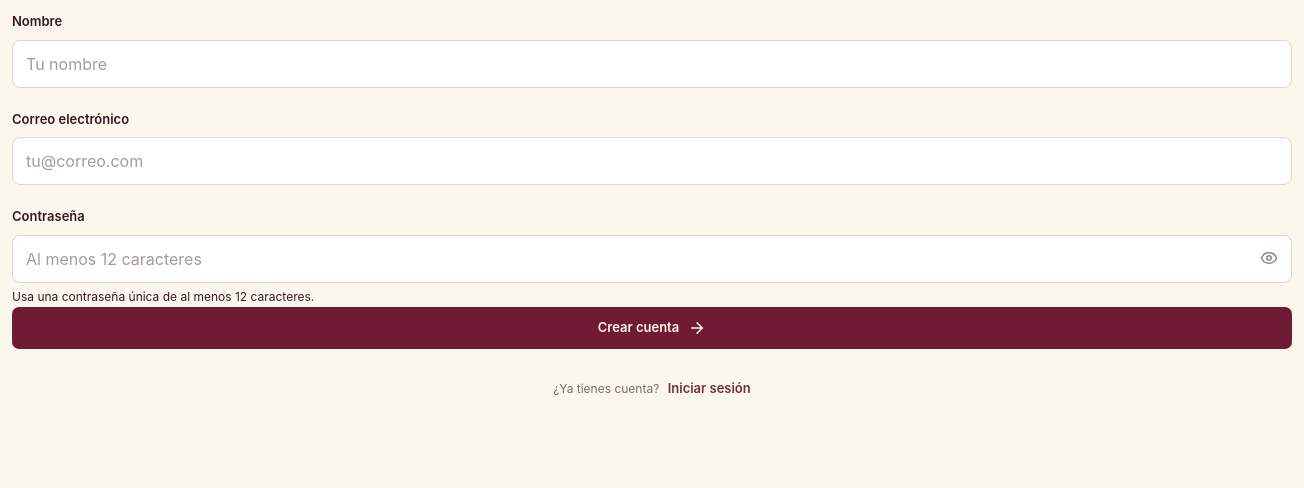
it: envía el nombre a Supabase y solicita confirmación cuando no hay sesión
This screenshot has width=1304, height=488.
Type "John" into the field labelled "Nombre" at (652, 64), box [12, 40, 1292, 88]
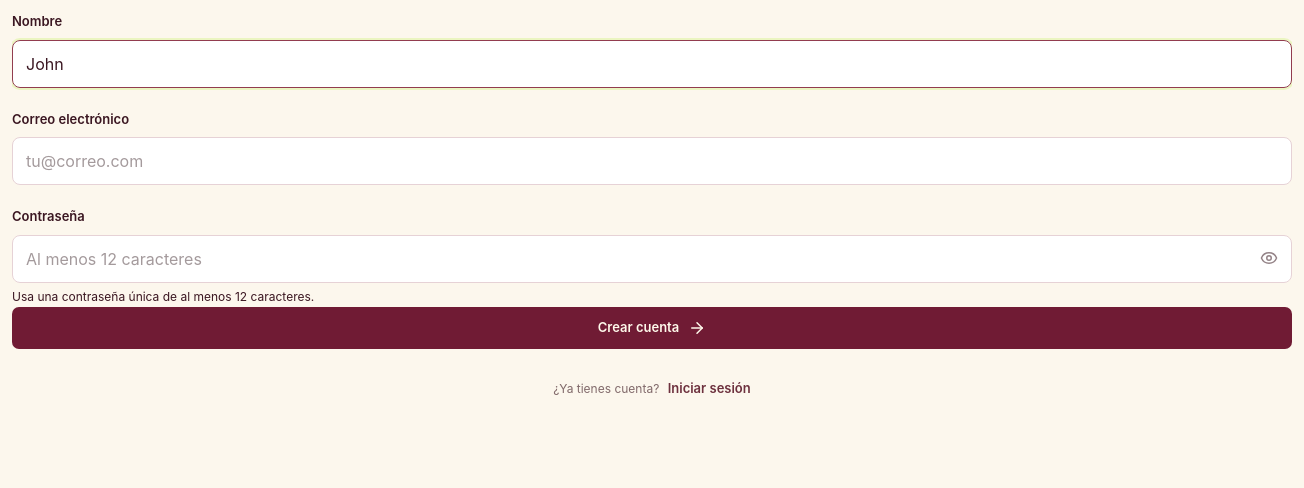
Type "john@example.com" into the field labelled "Correo electrónico" at (652, 161), box [12, 137, 1292, 185]
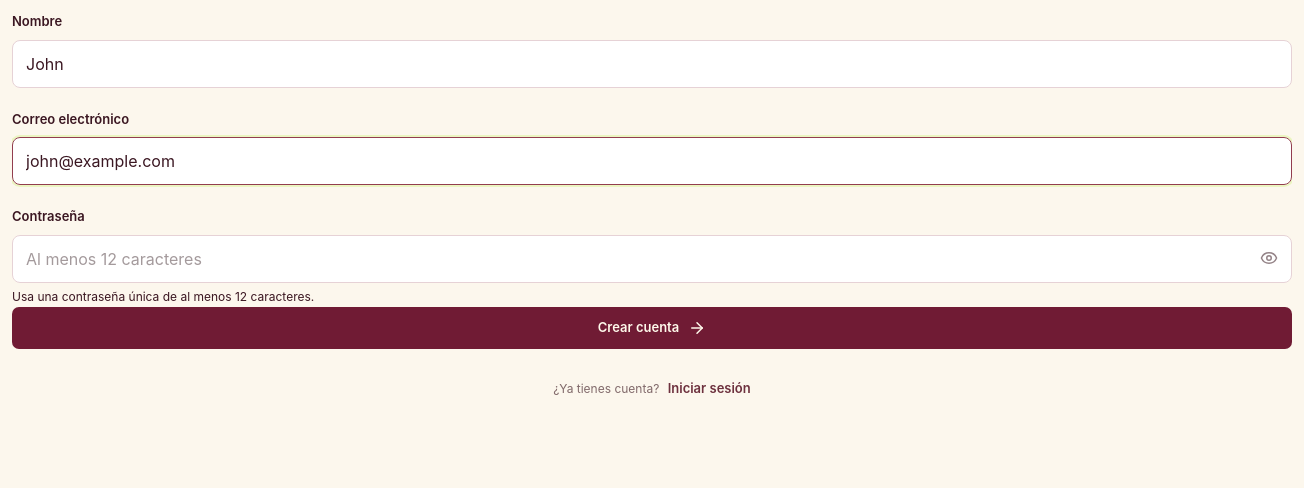
Type "UnaClaveSegura123!" into the password field labelled "Contraseña" at (652, 258), box [12, 234, 1292, 282]
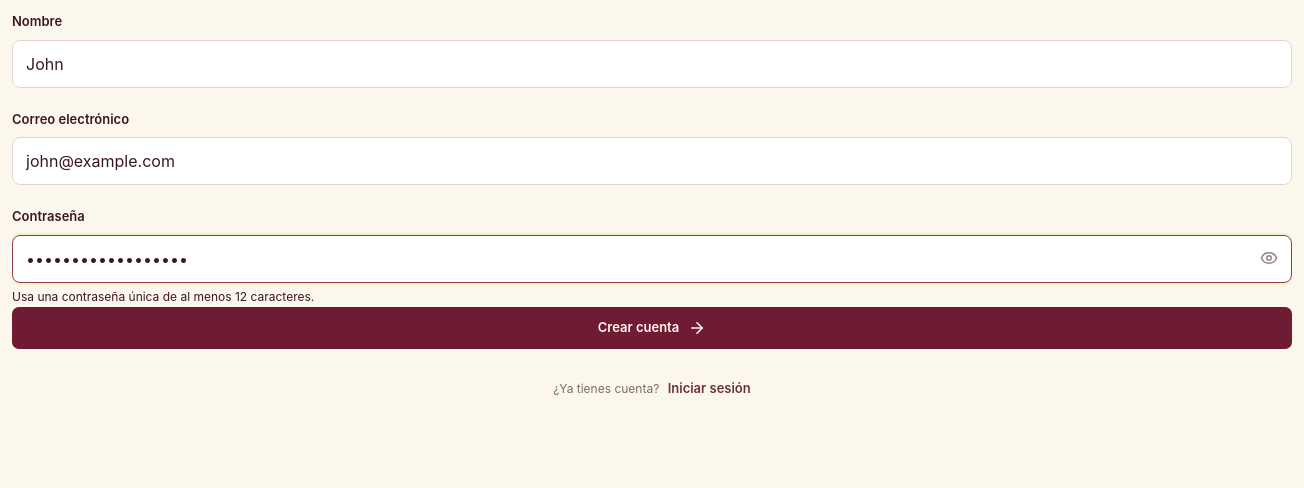
Click the button "Crear cuenta" at (652, 328), box [12, 306, 1292, 348]
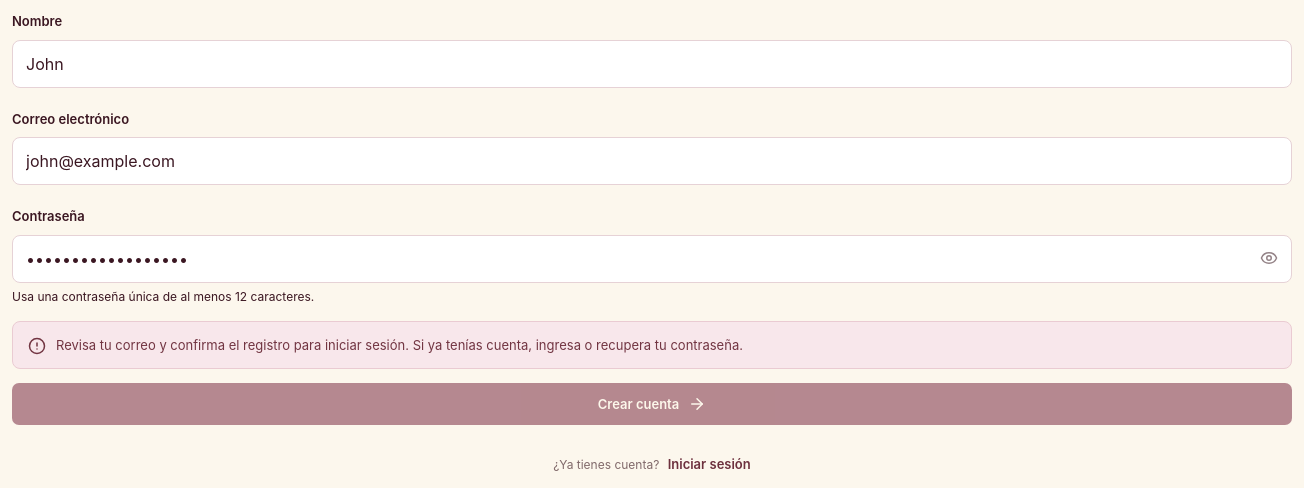
Expected: the text "Revisa tu correo y confirma el registro" is shown, [56, 336, 743, 352]
